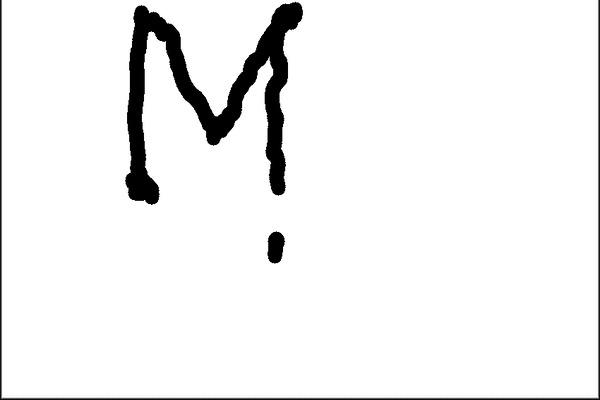M: (126, 1, 307, 208)
